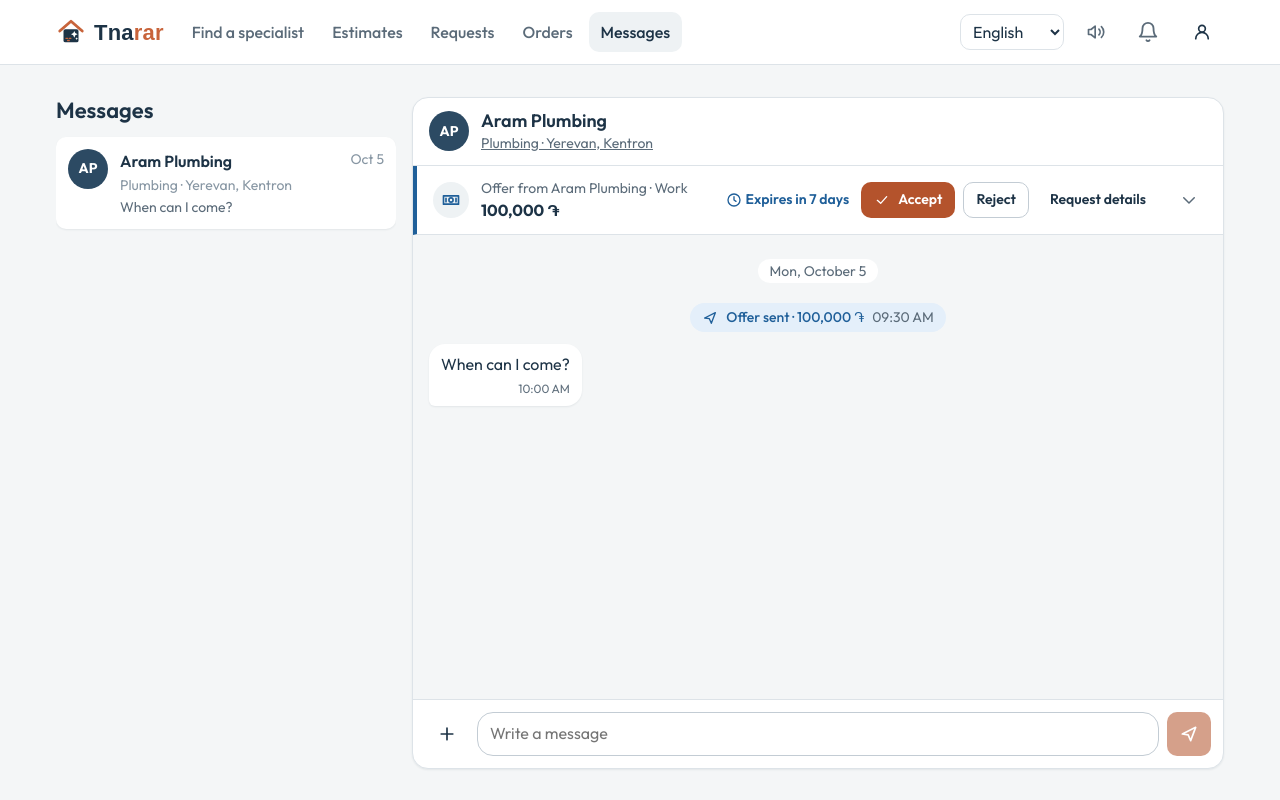
Test case: Offer in the chat › links to the offer on the request page and opens its details on demand
The image size is (1280, 800).
Expected: the element "Offer from Aram Plumbing" does not show "Replace the tap", [413, 166, 1223, 235]
Click the button named "Show offer details".
click(1189, 200)  # box [1171, 182, 1207, 218]
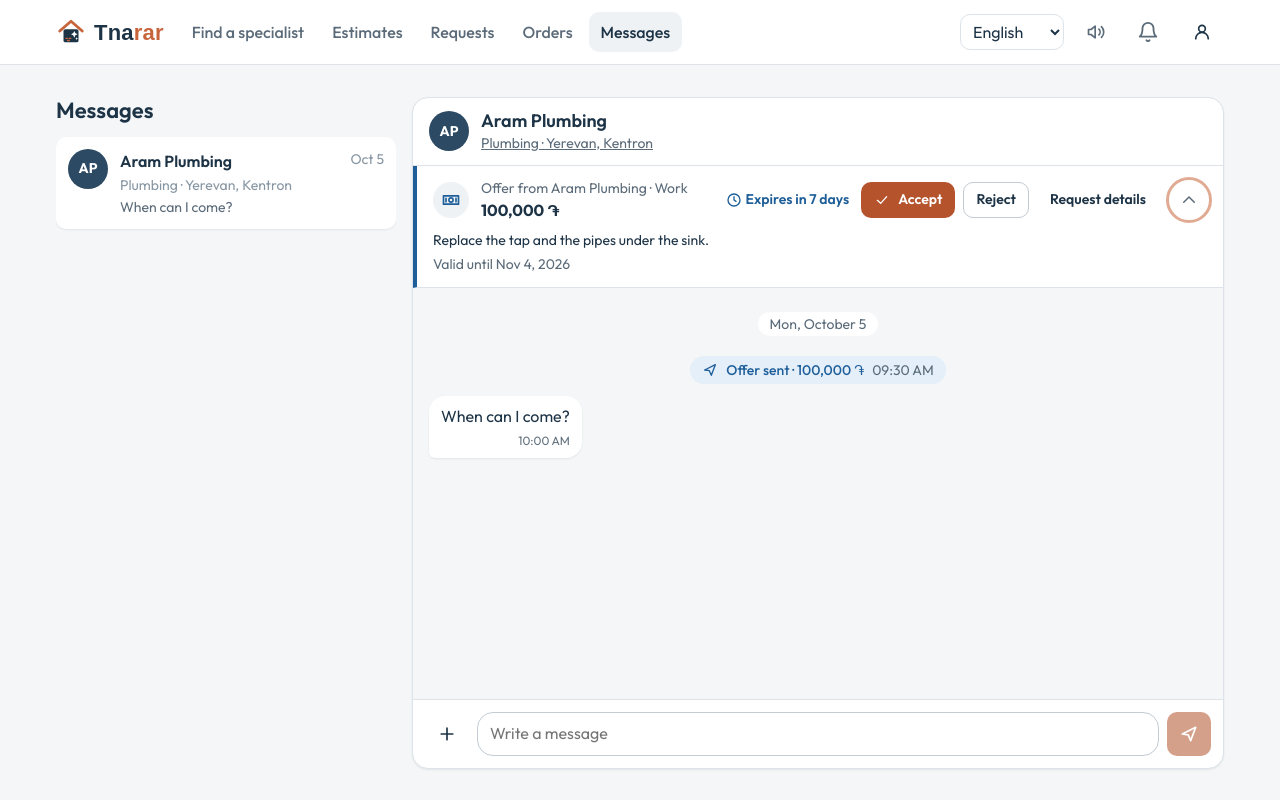
Now the button named "Hide offer details" is expanded, box [1171, 182, 1207, 218]
Now the element "Offer from Aram Plumbing" shows "Replace the tap and the pipes under the sink.", box [433, 231, 709, 249]
